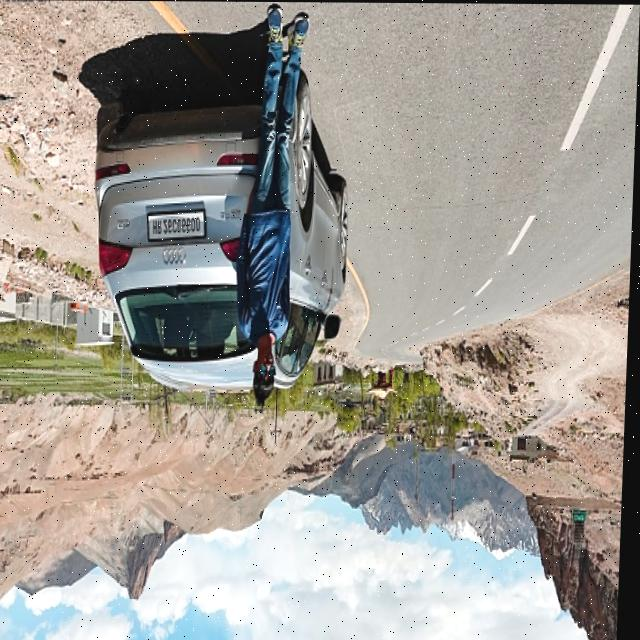plate: (147, 209, 210, 242)
